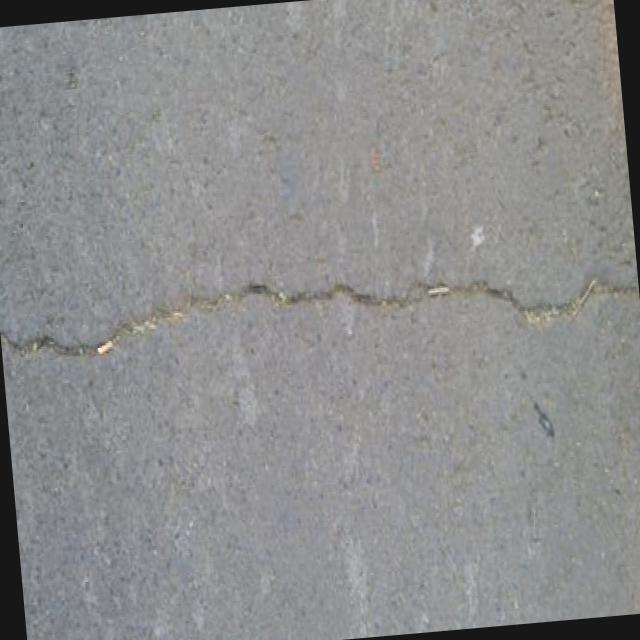Retak-Melintang: (0, 269, 638, 359)
